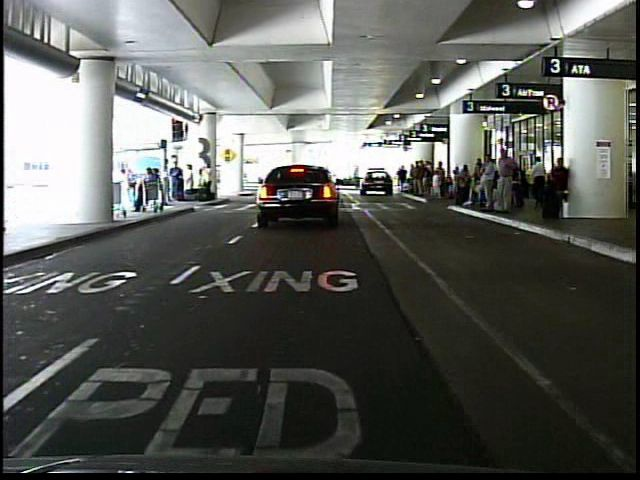person: (491, 142, 520, 220), (543, 152, 571, 225), (526, 153, 549, 207), (119, 162, 139, 218), (478, 152, 497, 210), (170, 155, 185, 203), (200, 158, 214, 200), (185, 161, 198, 201)
